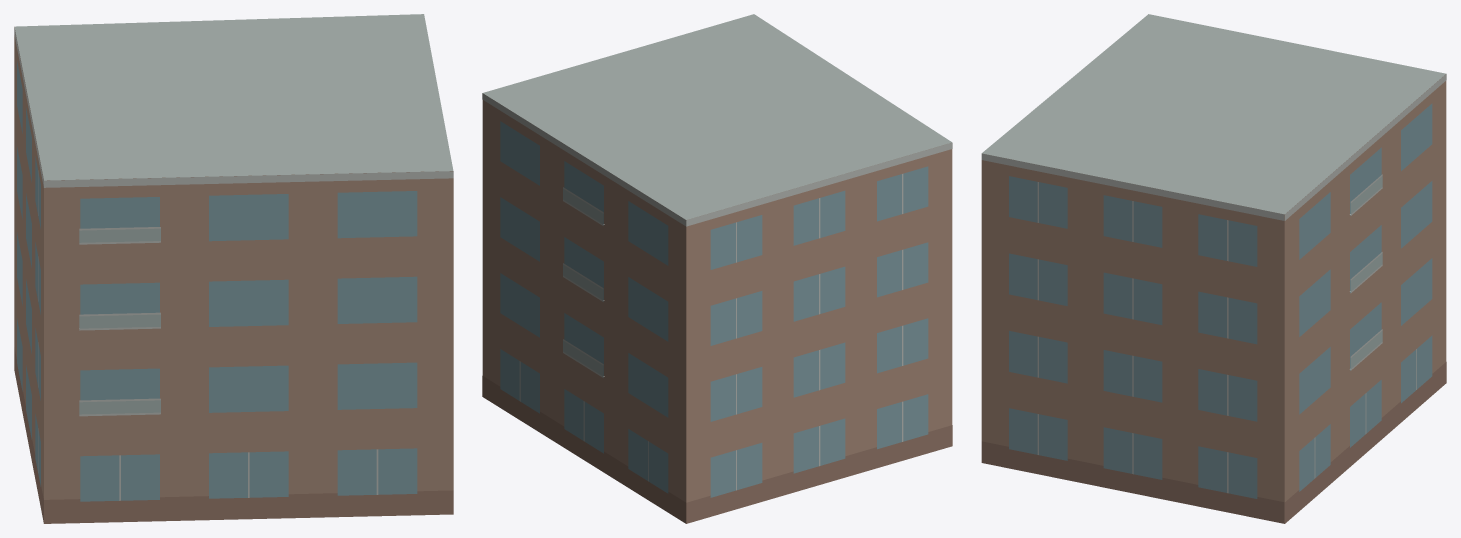
Rendered from survey-upis-32926498.glb.
The picture shows the model from 3 angles, left to right: view 1: azimuth 30°, elevation 25°; view 2: azimuth 150°, elevation 25°; view 3: azimuth 270°, elevation 25°; orthographic projection. The views are drawn at different scales.
Parts seen in each view (by area): view 1: survey-upis-32926498.tmp; view 2: survey-upis-32926498.tmp; view 3: survey-upis-32926498.tmp.
Boxes of the visible parts, bbox=[...] form: survey-upis-32926498.tmp: bbox=[14, 14, 453, 523]; survey-upis-32926498.tmp: bbox=[482, 14, 952, 523]; survey-upis-32926498.tmp: bbox=[981, 14, 1446, 523].
Bounding box in the file's own units: 15.84 × 11.4 × 15.53.
